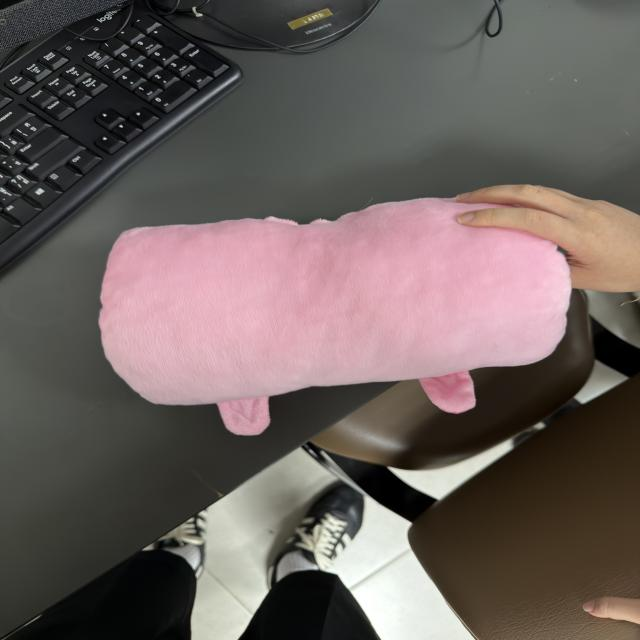pinkpillow: (96, 196, 577, 399)
